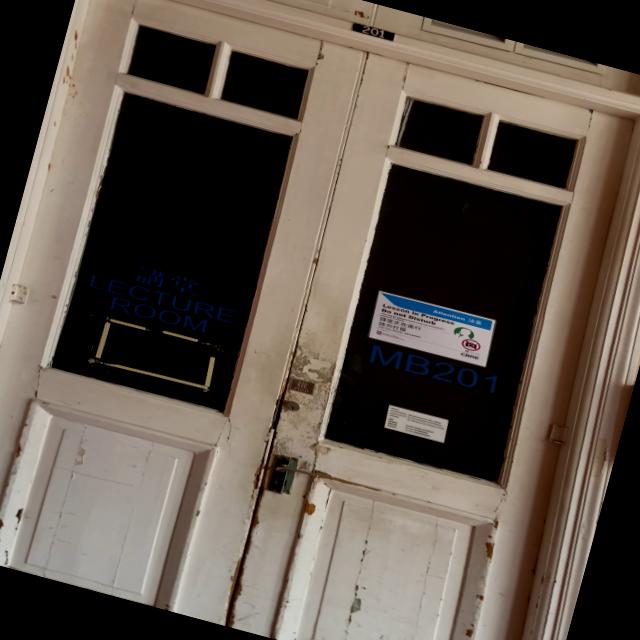room201: (344, 18, 398, 43)
room201Window: (364, 342, 504, 399)
